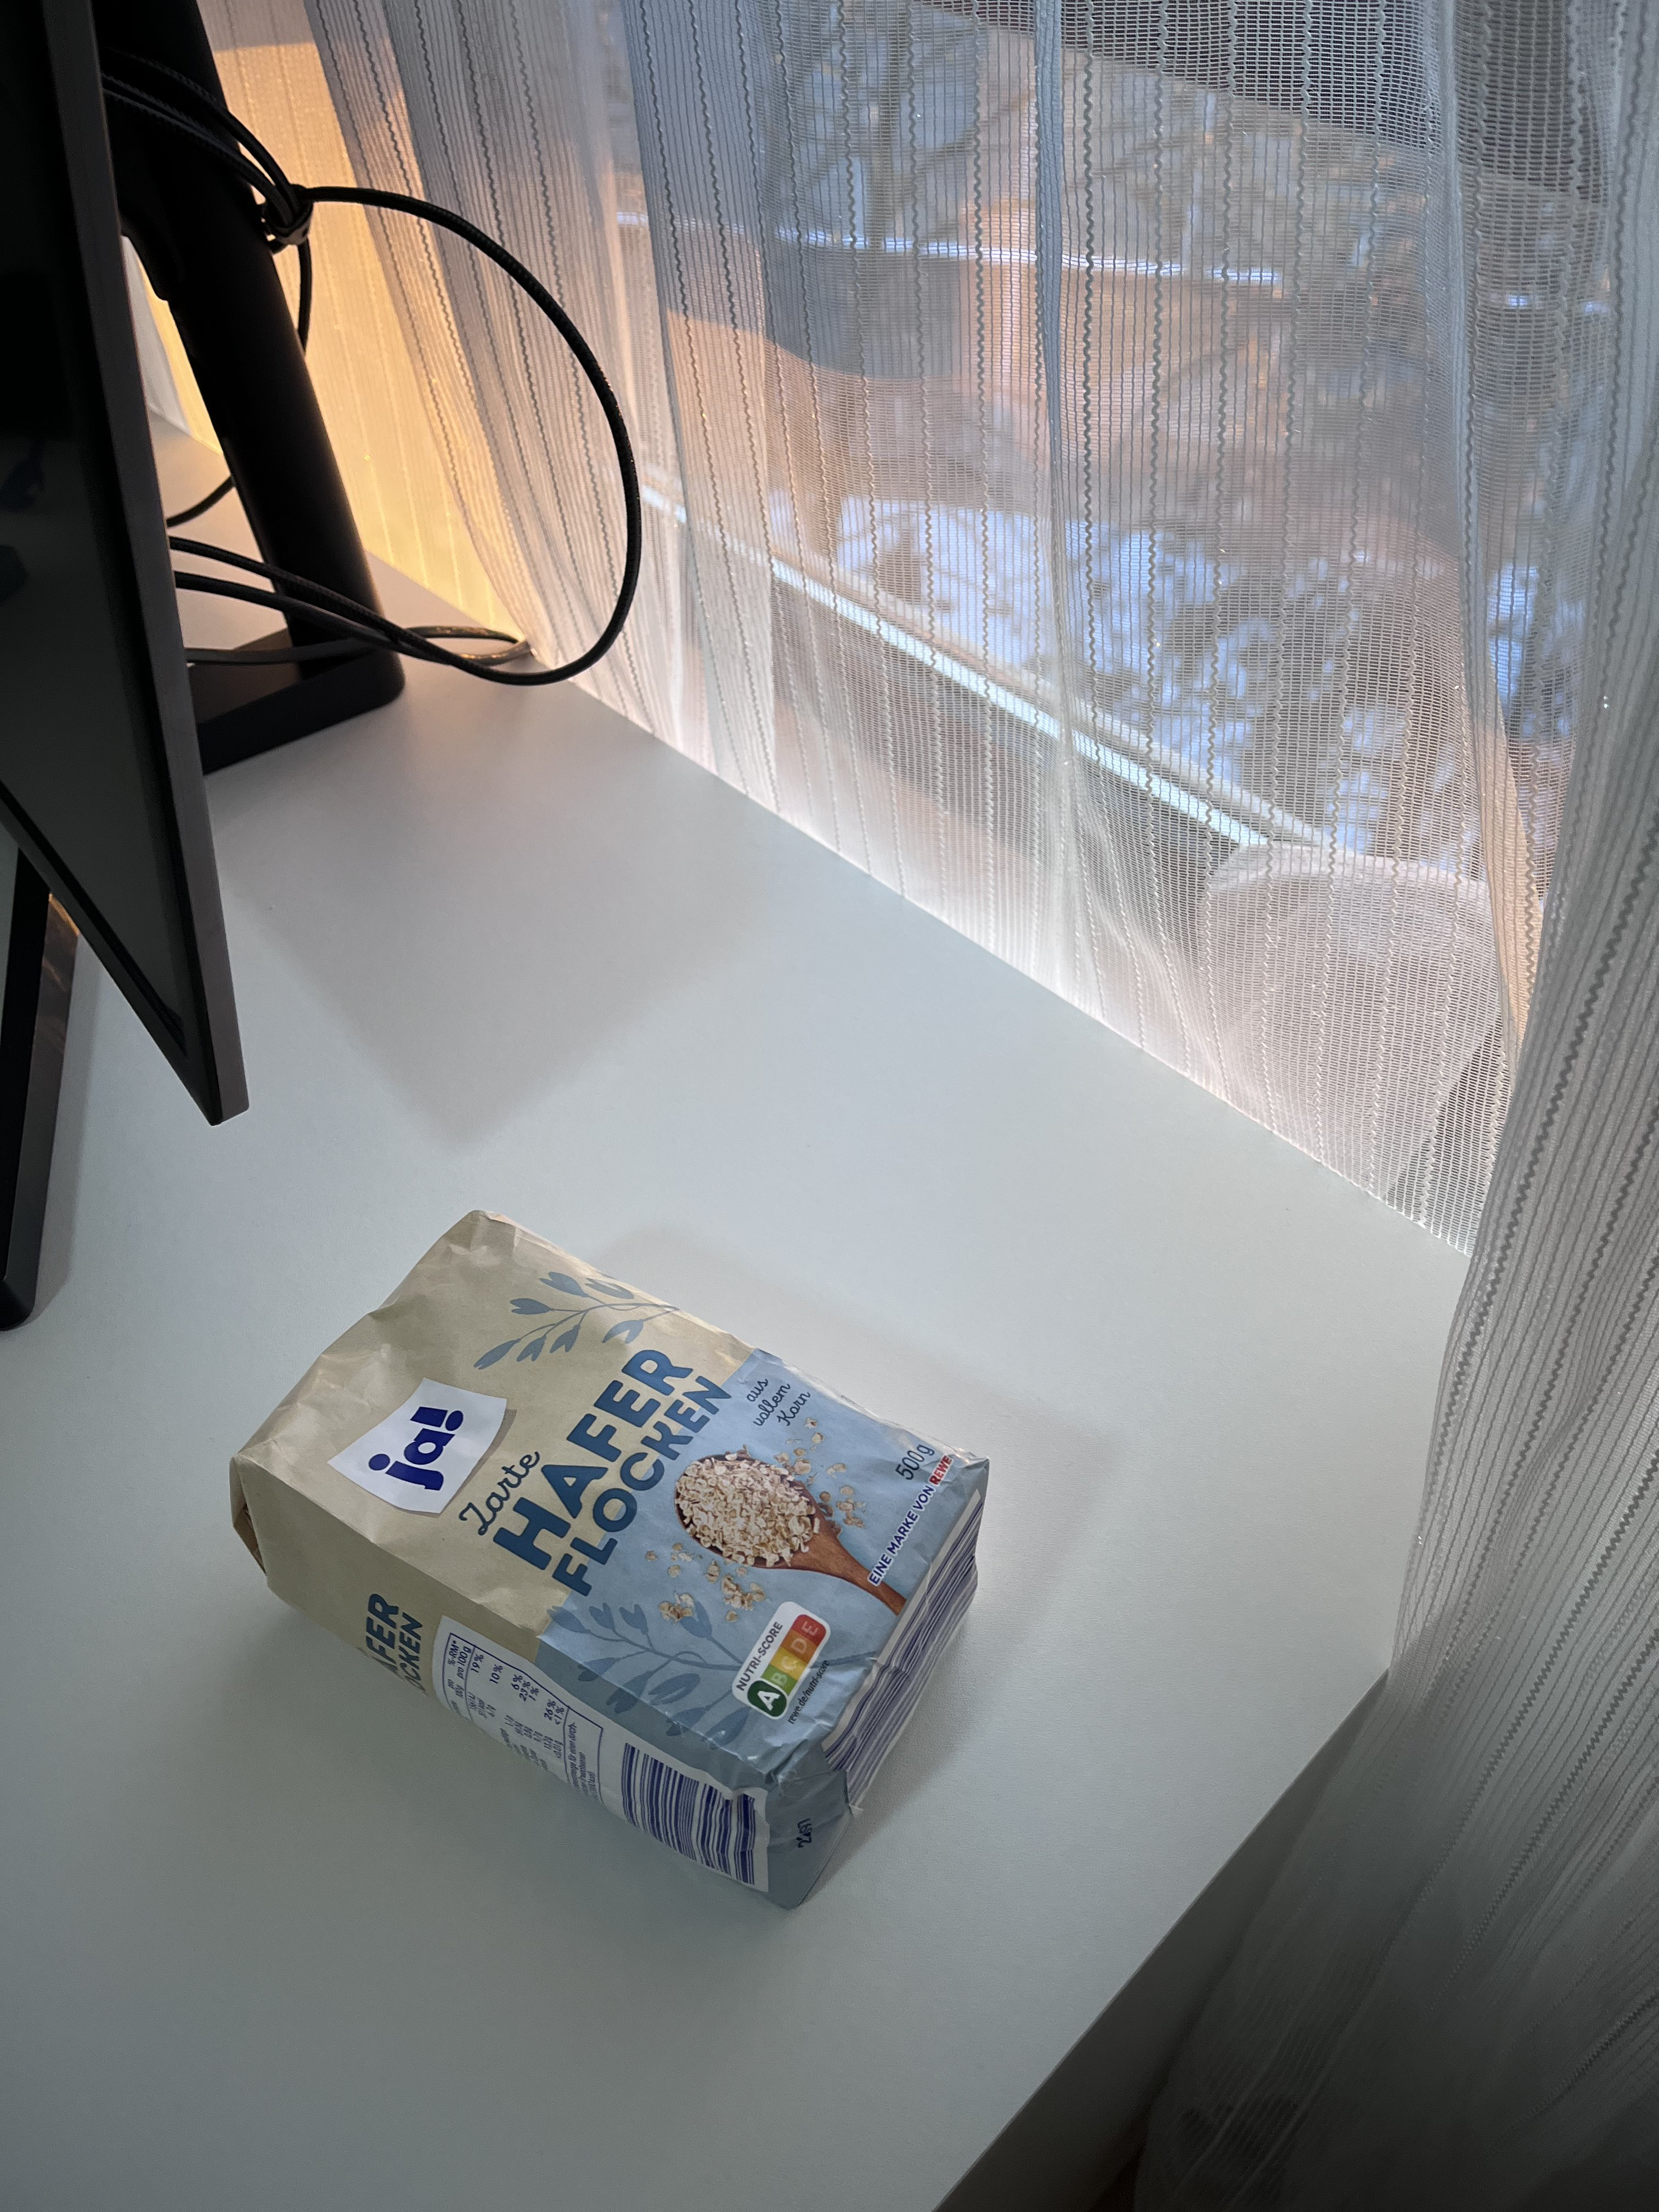haferflocken_ja: (235, 1207, 993, 1914)
